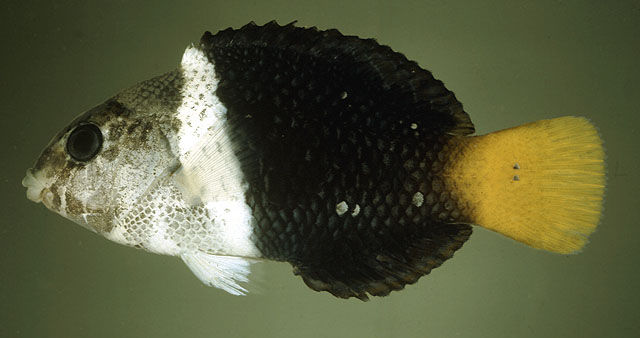fish: (22, 20, 609, 302)
